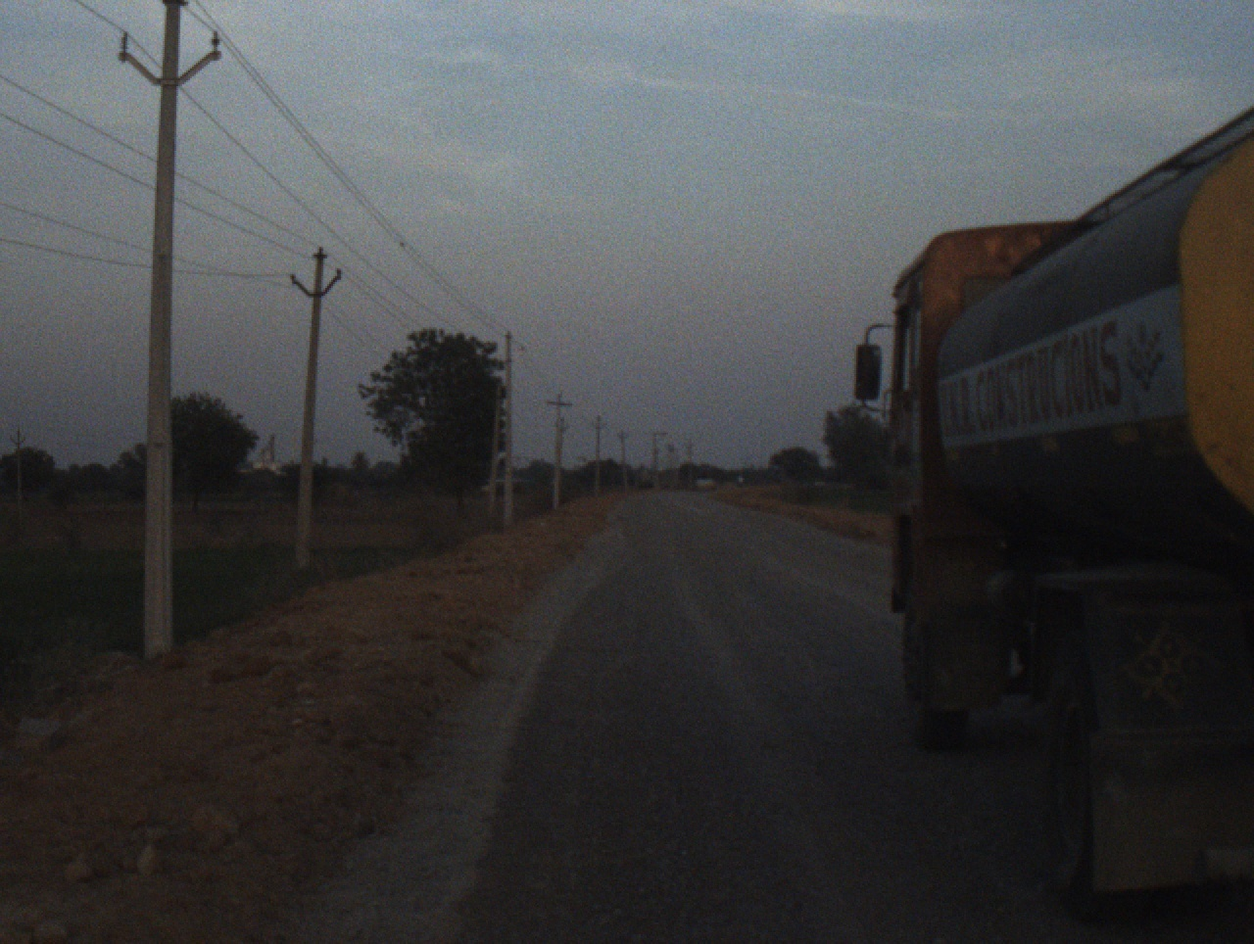truck: (851, 108, 1254, 937)
vehicle fallback: (693, 472, 713, 494)
